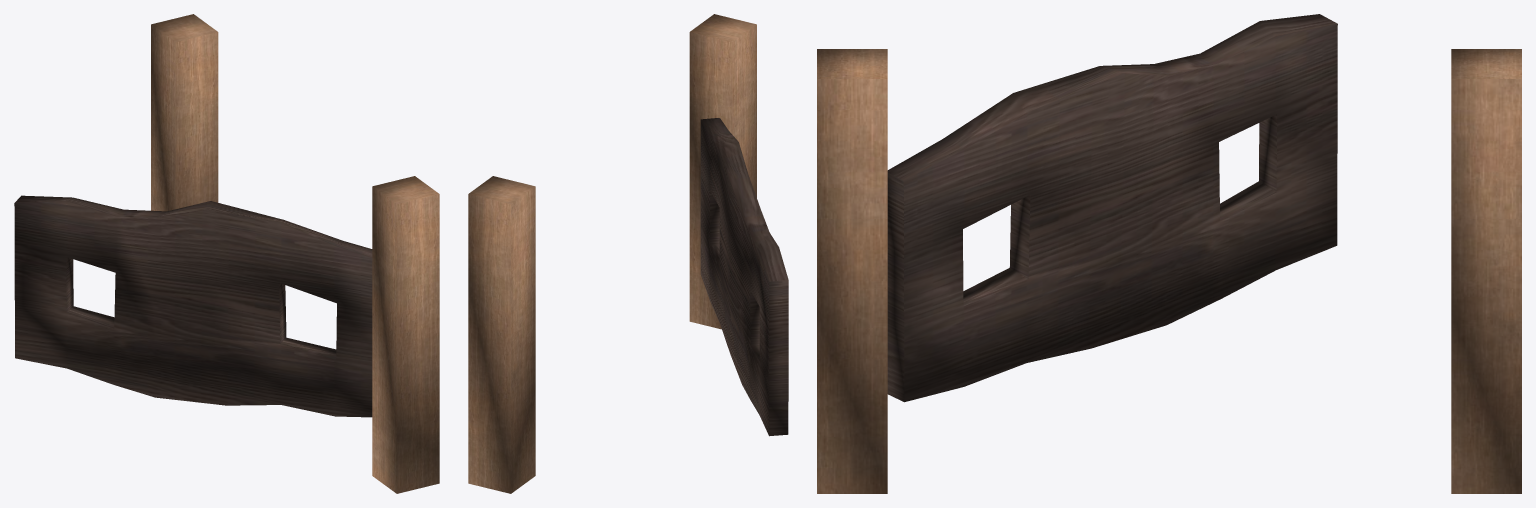
3 views of the same model, side by side, from view 1: azimuth 30°, elevation 25°; view 2: azimuth 150°, elevation 25°; view 3: azimuth 270°, elevation 25° (orthographic). The views are drawn at different scales.
Visible parts, largest first — view 1: Cube142_Wood_10001_0, Cube131_Wood_02001_0; view 2: Cube131_Wood_02001_0, Cube142_Wood_10001_0; view 3: Cube142_Wood_10001_0, Cube131_Wood_02001_0.
Part boxes in pixels (<box>): Cube142_Wood_10001_0: <box>14,195,372,417</box>; Cube131_Wood_02001_0: <box>151,14,439,493</box>; Cube131_Wood_02001_0: <box>468,14,756,493</box>; Cube142_Wood_10001_0: <box>700,118,788,436</box>; Cube142_Wood_10001_0: <box>887,14,1337,402</box>; Cube131_Wood_02001_0: <box>817,49,1521,493</box>.
Size of the model in its own units: 1.17 by 1.3 by 2.
Materials: 2 (2 with a texture image).
